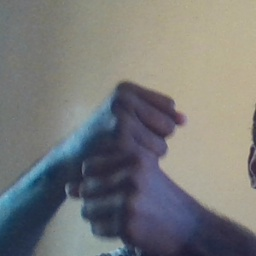G: (68, 78, 188, 239)
